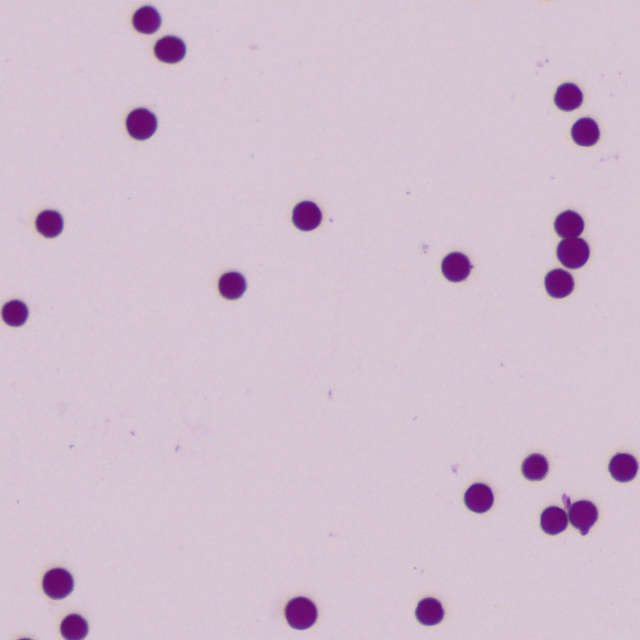viable: (133, 5, 185, 62), (555, 211, 588, 267), (286, 597, 317, 629), (570, 500, 597, 534), (43, 569, 73, 599), (127, 109, 156, 139), (465, 483, 493, 513), (443, 253, 472, 281), (546, 269, 574, 298), (293, 202, 321, 230), (572, 118, 599, 146), (555, 83, 582, 111), (610, 454, 638, 481), (155, 37, 185, 62), (133, 6, 160, 33), (416, 598, 443, 625), (219, 273, 246, 299), (541, 507, 567, 534), (36, 211, 62, 237), (3, 300, 28, 326), (523, 454, 548, 480), (61, 615, 87, 639)
